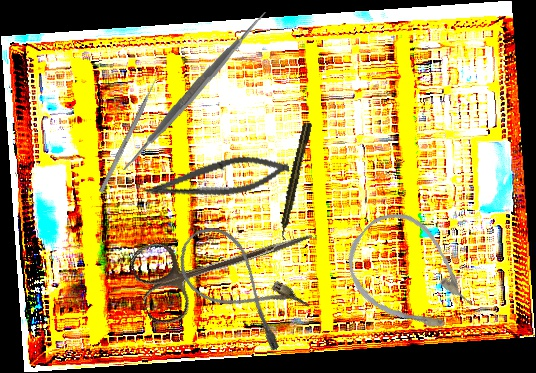Cannula: (330, 197, 490, 355), (164, 215, 315, 356)
Handpiece: (275, 121, 314, 241)
Iris Scissors: (126, 193, 325, 330)
Micro Scissor: (140, 145, 293, 216)
Pusher: (98, 72, 162, 193)
Spatula Surgical: (112, 7, 278, 175)
